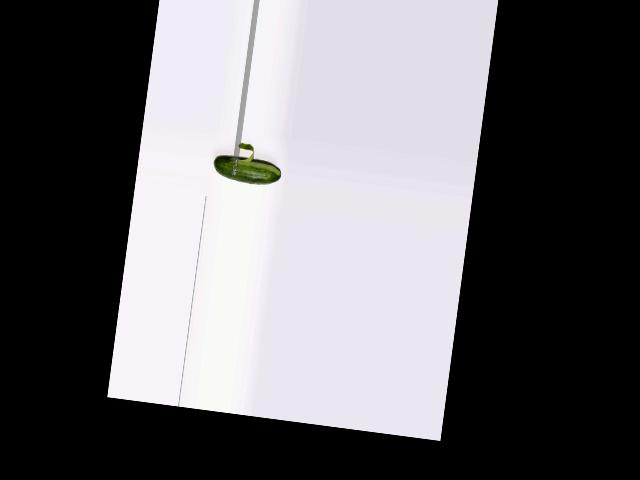cucumber: (211, 152, 282, 187)
